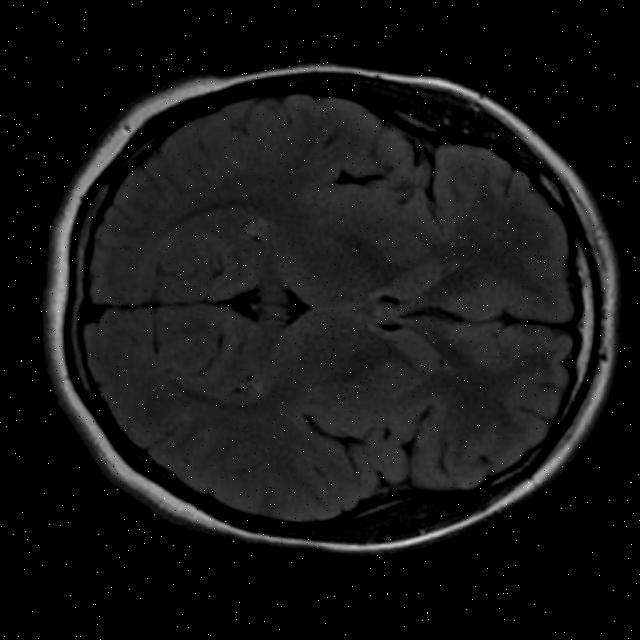NoTumor: (2, 14, 640, 596)
